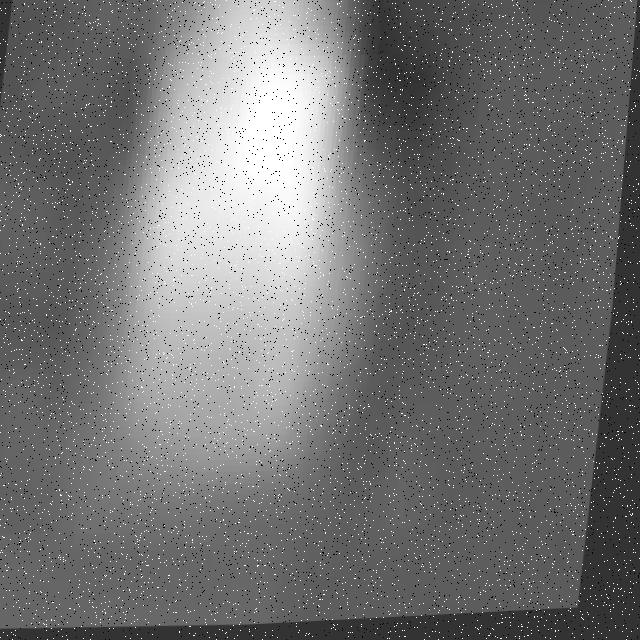person: (96, 1, 394, 502)
